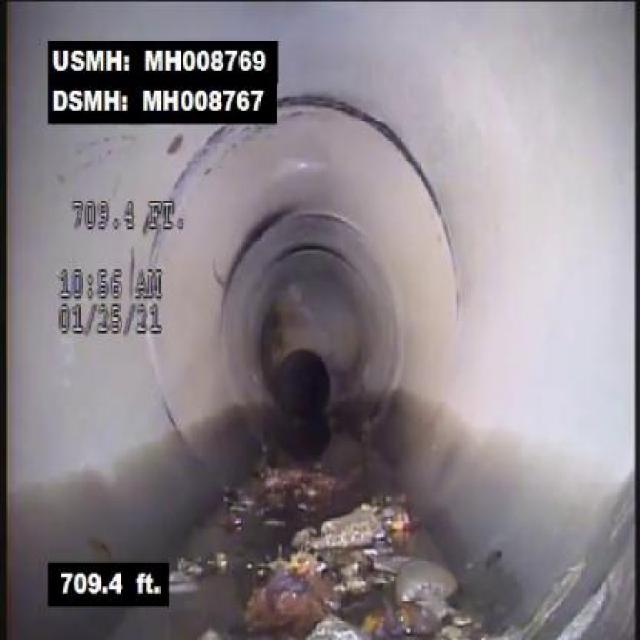Debris: (239, 494, 483, 638)
